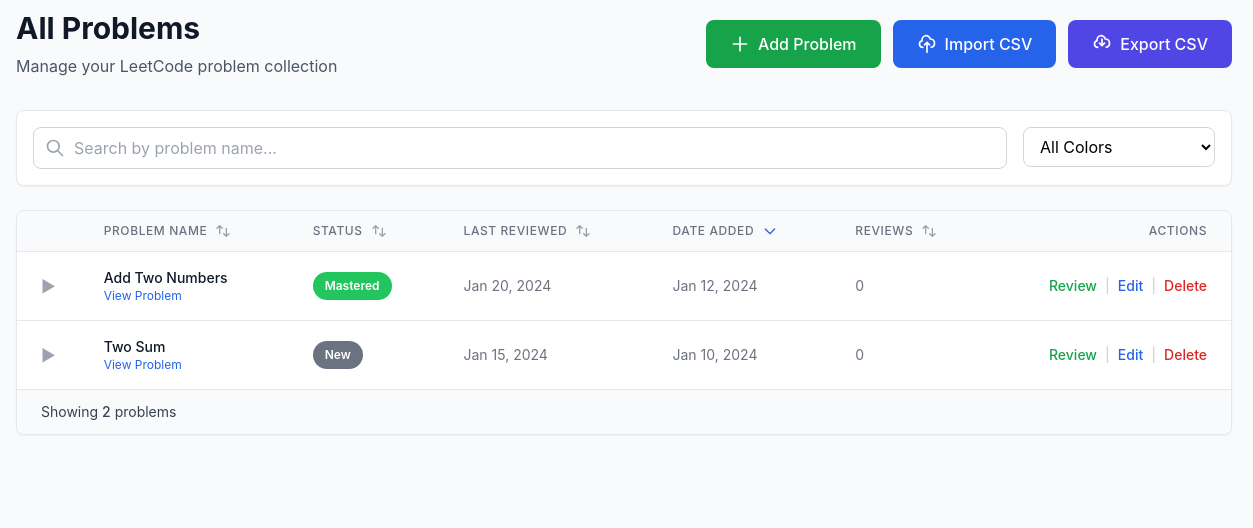
Scenario: AllProblems › Export CSV Functionality › Export CSV Action › should show success message after successful export
The width and height of the screenshot is (1253, 528).
Expected: the text "Two Sum" is shown, [104, 338, 165, 355]
Click the button "Export CSV" at (1150, 44), box [1068, 20, 1232, 68]
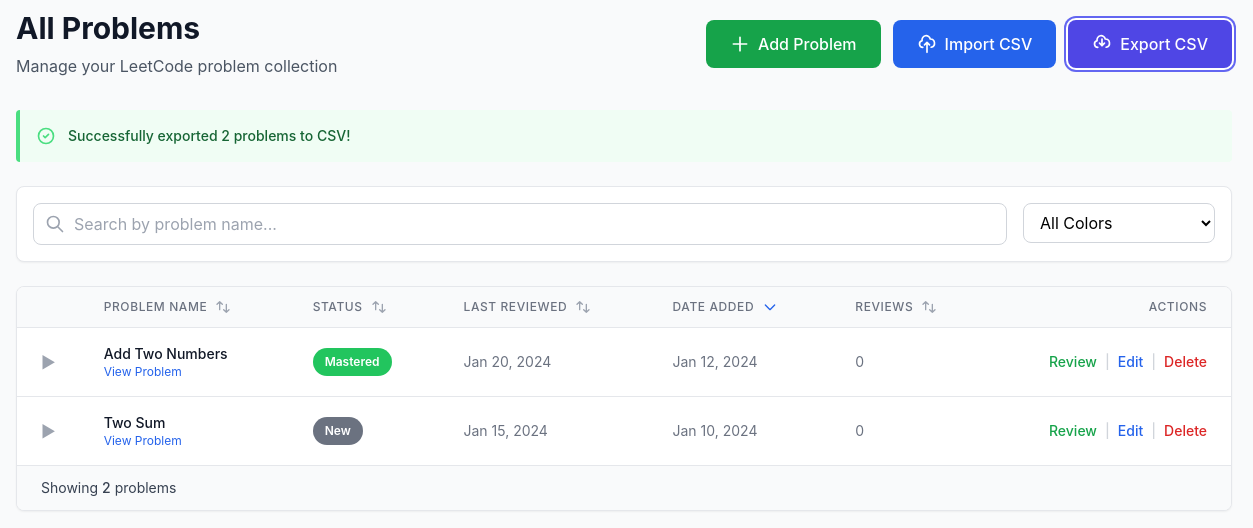
Result: the text "Successfully exported 2 problems to CSV!" is shown at [68, 126, 350, 146]
